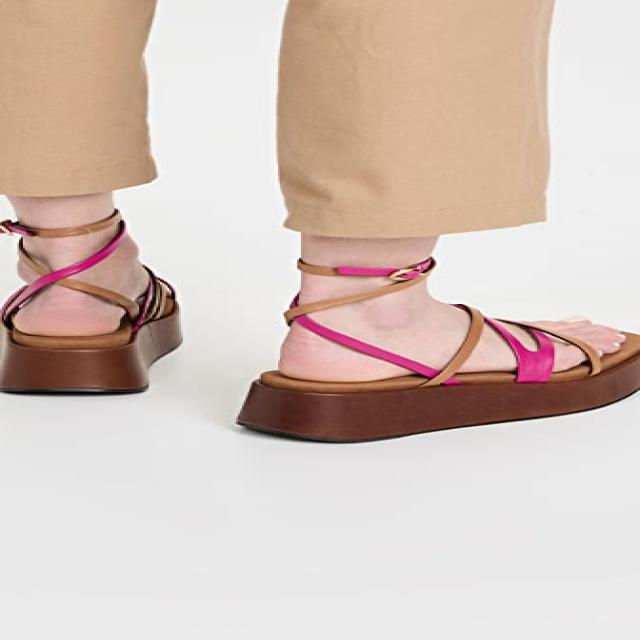Sandals: (236, 207, 640, 443), (1, 202, 186, 394)
